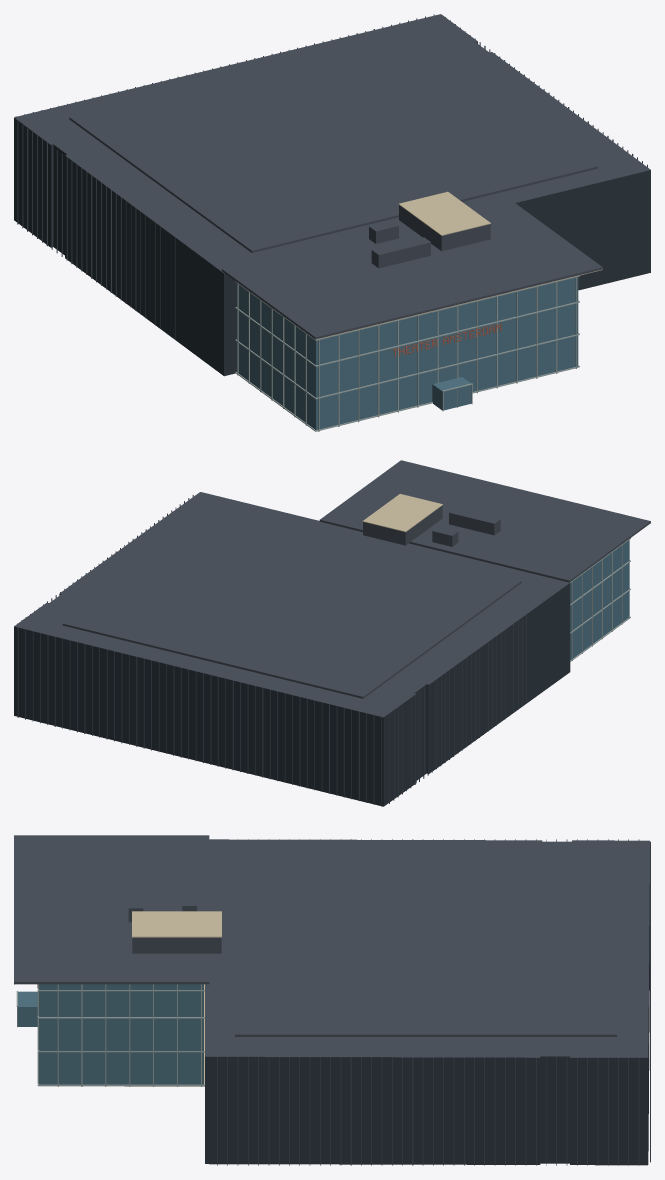
The model's file is theater-amsterdam.glb.
3 renders of one model, top to bottom at view 1: azimuth 30°, elevation 25°; view 2: azimuth 150°, elevation 25°; view 3: azimuth 270°, elevation 25°, orthographic. The views are drawn at different scales.
Visible parts, largest first — view 1: theater-amsterdam; view 2: theater-amsterdam; view 3: theater-amsterdam.
Boxes of the visible parts, x1,y1,x2,y2 form: theater-amsterdam: [14, 14, 650, 431]; theater-amsterdam: [14, 460, 650, 806]; theater-amsterdam: [14, 835, 650, 1165].
Bounding box in the file's own units: 70.56 × 19.25 × 86.74.
